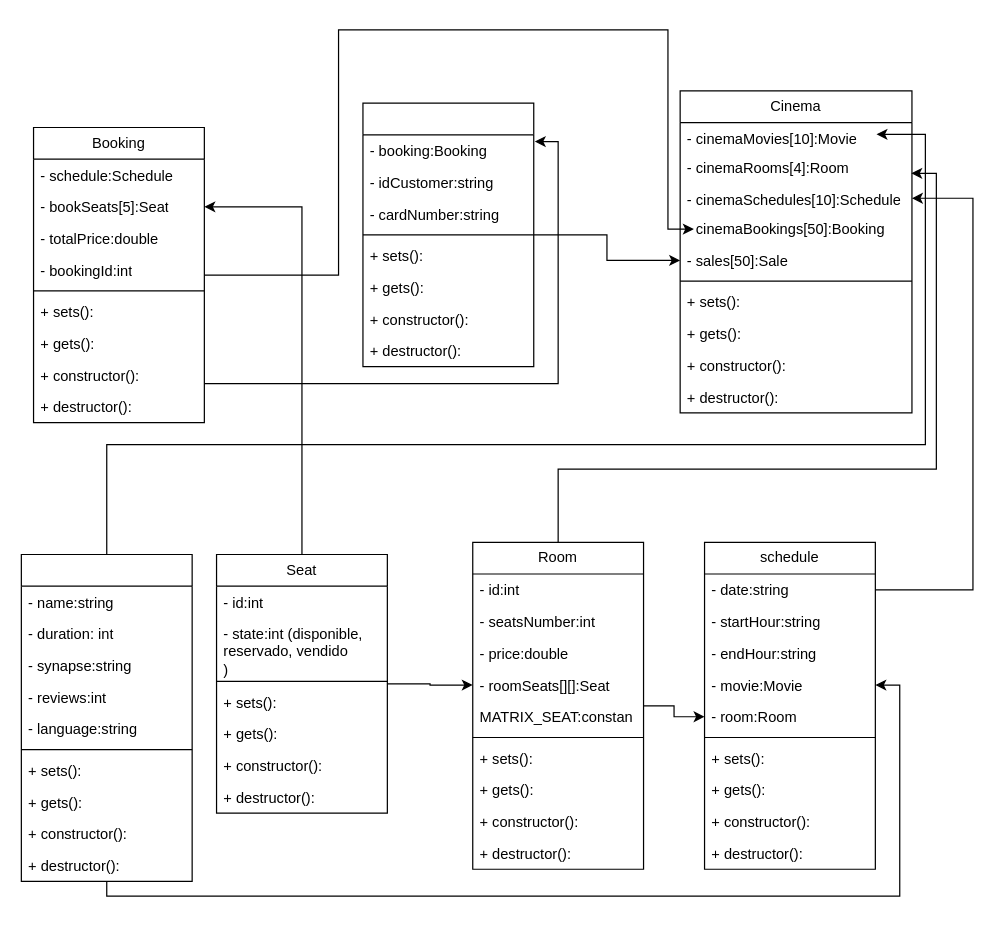
This 1004x927 diagram has some shape labels left out. The shapes that lost their labels are listed below. From the top down, each one's box as (x1, y1, x2, y2) in pixels, then its label:
(362, 102, 534, 367): Sale
(20, 553, 192, 881): Movie
